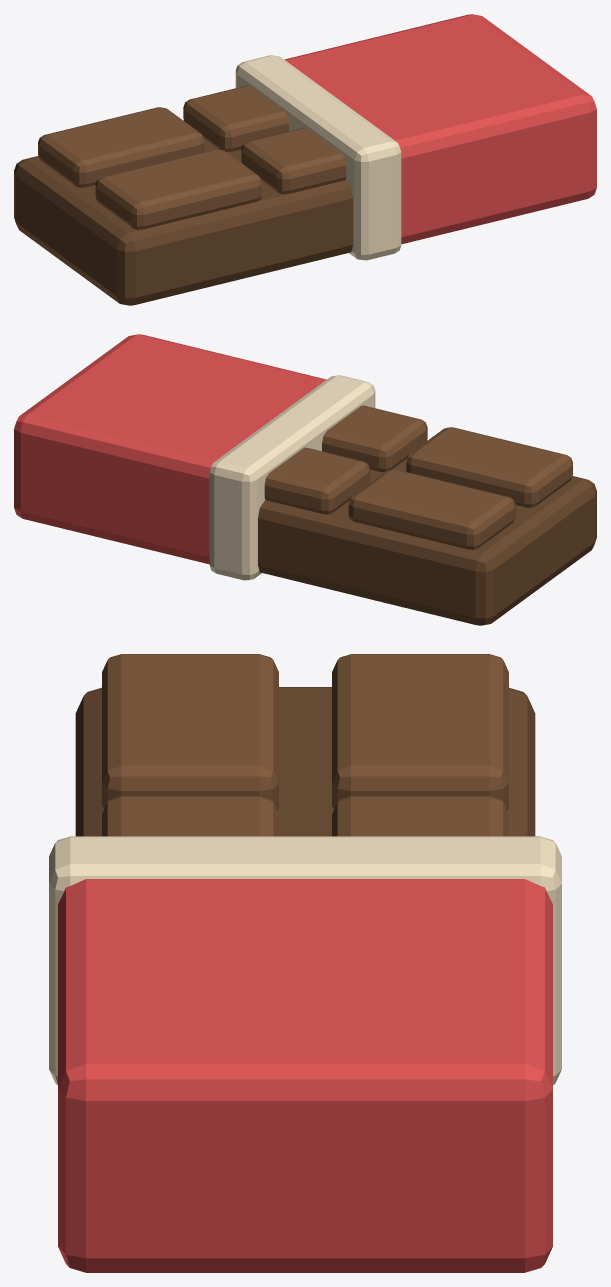
Rendered from energy_bar.glb.
The picture shows the model from 3 angles, top to bottom: view 1: azimuth 30°, elevation 25°; view 2: azimuth 150°, elevation 25°; view 3: azimuth 270°, elevation 25°; orthographic projection. The views are drawn at different scales.
Parts seen in each view (by area): view 1: energy_bar_wrap, energy_bar_choc, energy_bar_bump, energy_bar_band; view 2: energy_bar_wrap, energy_bar_choc, energy_bar_bump, energy_bar_band; view 3: energy_bar_wrap, energy_bar_bump, energy_bar_band, energy_bar_choc.
Boxes of the visible parts, x1=… form: energy_bar_wrap: x1=284, y1=14, x2=596, y2=244; energy_bar_choc: x1=14, y1=120, x2=352, y2=305; energy_bar_bump: x1=38, y1=85, x2=346, y2=229; energy_bar_band: x1=235, y1=55, x2=401, y2=260; energy_bar_wrap: x1=14, y1=334, x2=326, y2=564; energy_bar_choc: x1=258, y1=440, x2=596, y2=625; energy_bar_bump: x1=264, y1=405, x2=572, y2=549; energy_bar_band: x1=209, y1=375, x2=375, y2=580; energy_bar_wrap: x1=58, y1=879, x2=552, y2=1272; energy_bar_bump: x1=102, y1=654, x2=508, y2=836; energy_bar_band: x1=49, y1=836, x2=561, y2=1084; energy_bar_choc: x1=75, y1=687, x2=535, y2=836.
Bounding box in the file's own units: 0.31 × 0.07 × 0.145.
